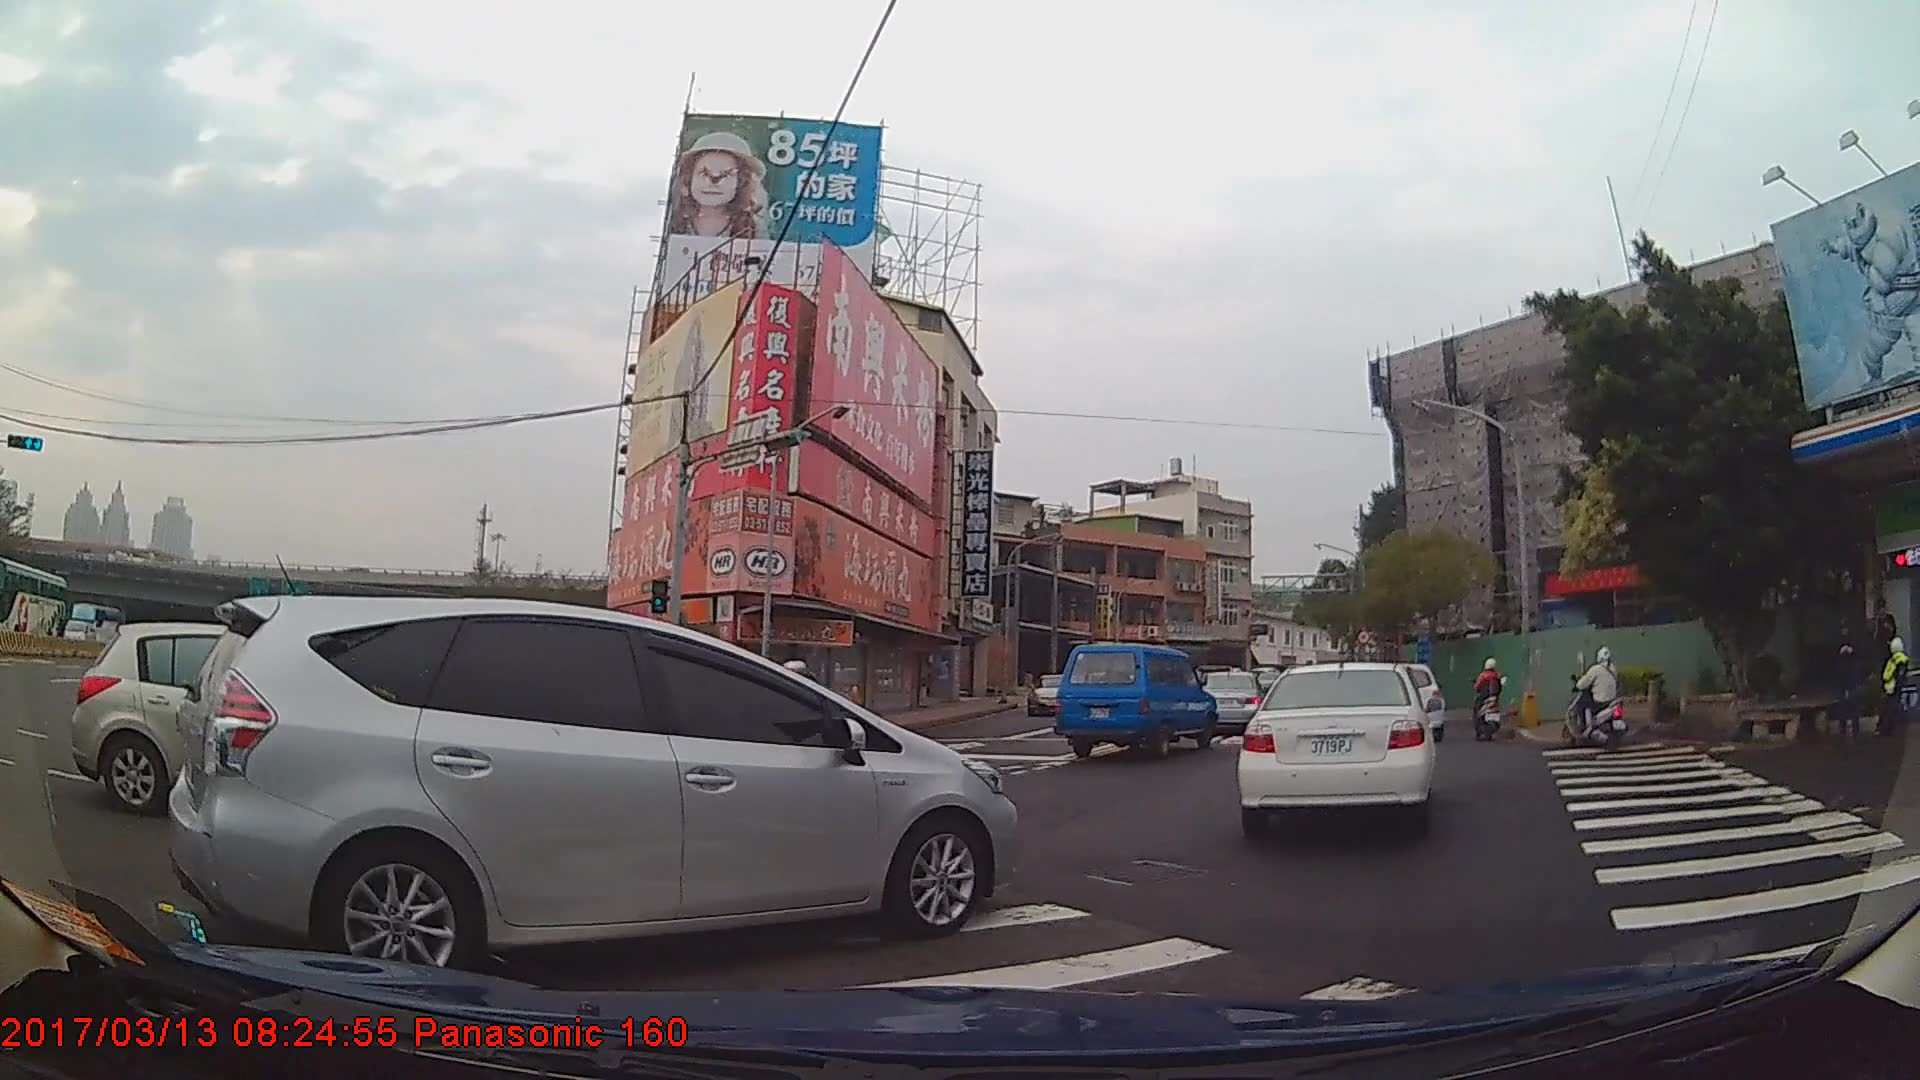pedestrian: (1824, 617, 1866, 743), (1854, 597, 1898, 700)
rider: (1564, 645, 1627, 750), (1471, 659, 1506, 743)
vehicle: (165, 594, 1019, 985), (71, 621, 406, 814), (1235, 662, 1434, 839), (1051, 645, 1214, 761), (0, 557, 66, 651), (1186, 670, 1260, 740)
